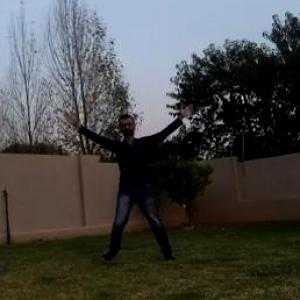takeoff: (84, 95, 212, 265)
